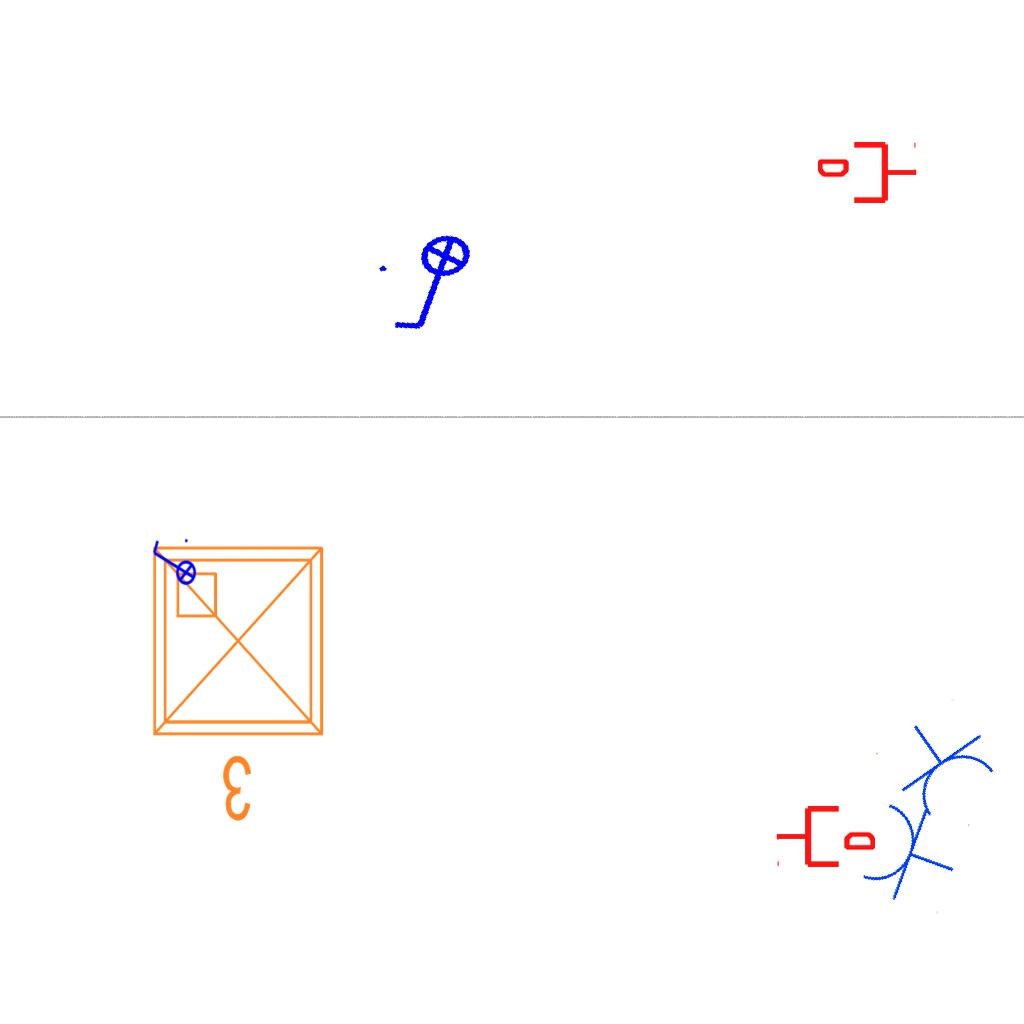Ausschalter_beleuchtet: (369, 226, 499, 344), (149, 536, 197, 592)
Datenanschluss_einfach: (775, 802, 875, 871), (818, 138, 918, 207)
Einbaudownlights_LED_Konferenzraeume: (138, 532, 346, 832)
Schukosteckdose_einfach: (873, 697, 1005, 826), (855, 792, 971, 917)
